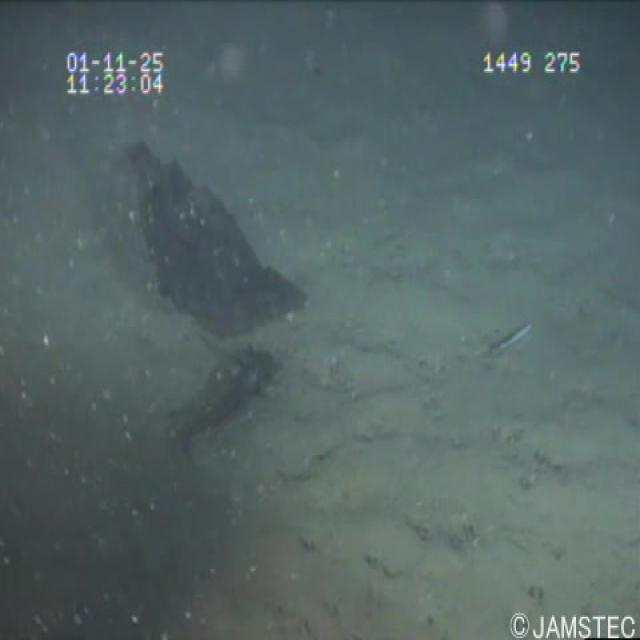plastic: (117, 128, 319, 338)
